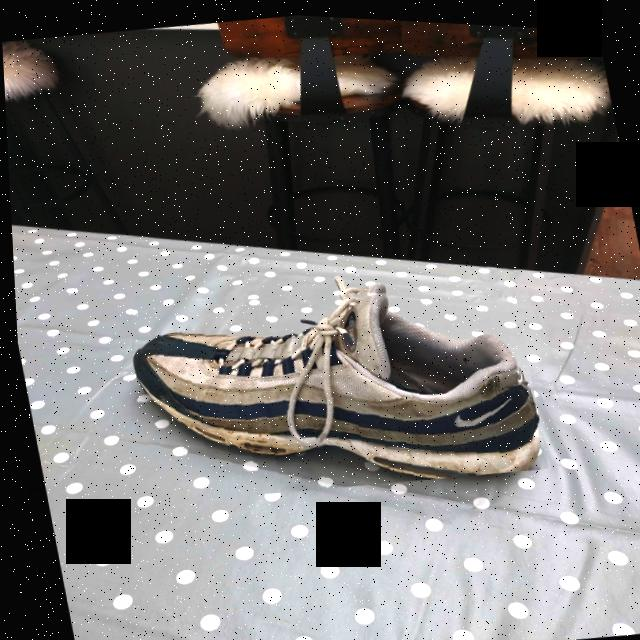shoe: (114, 248, 546, 518)
